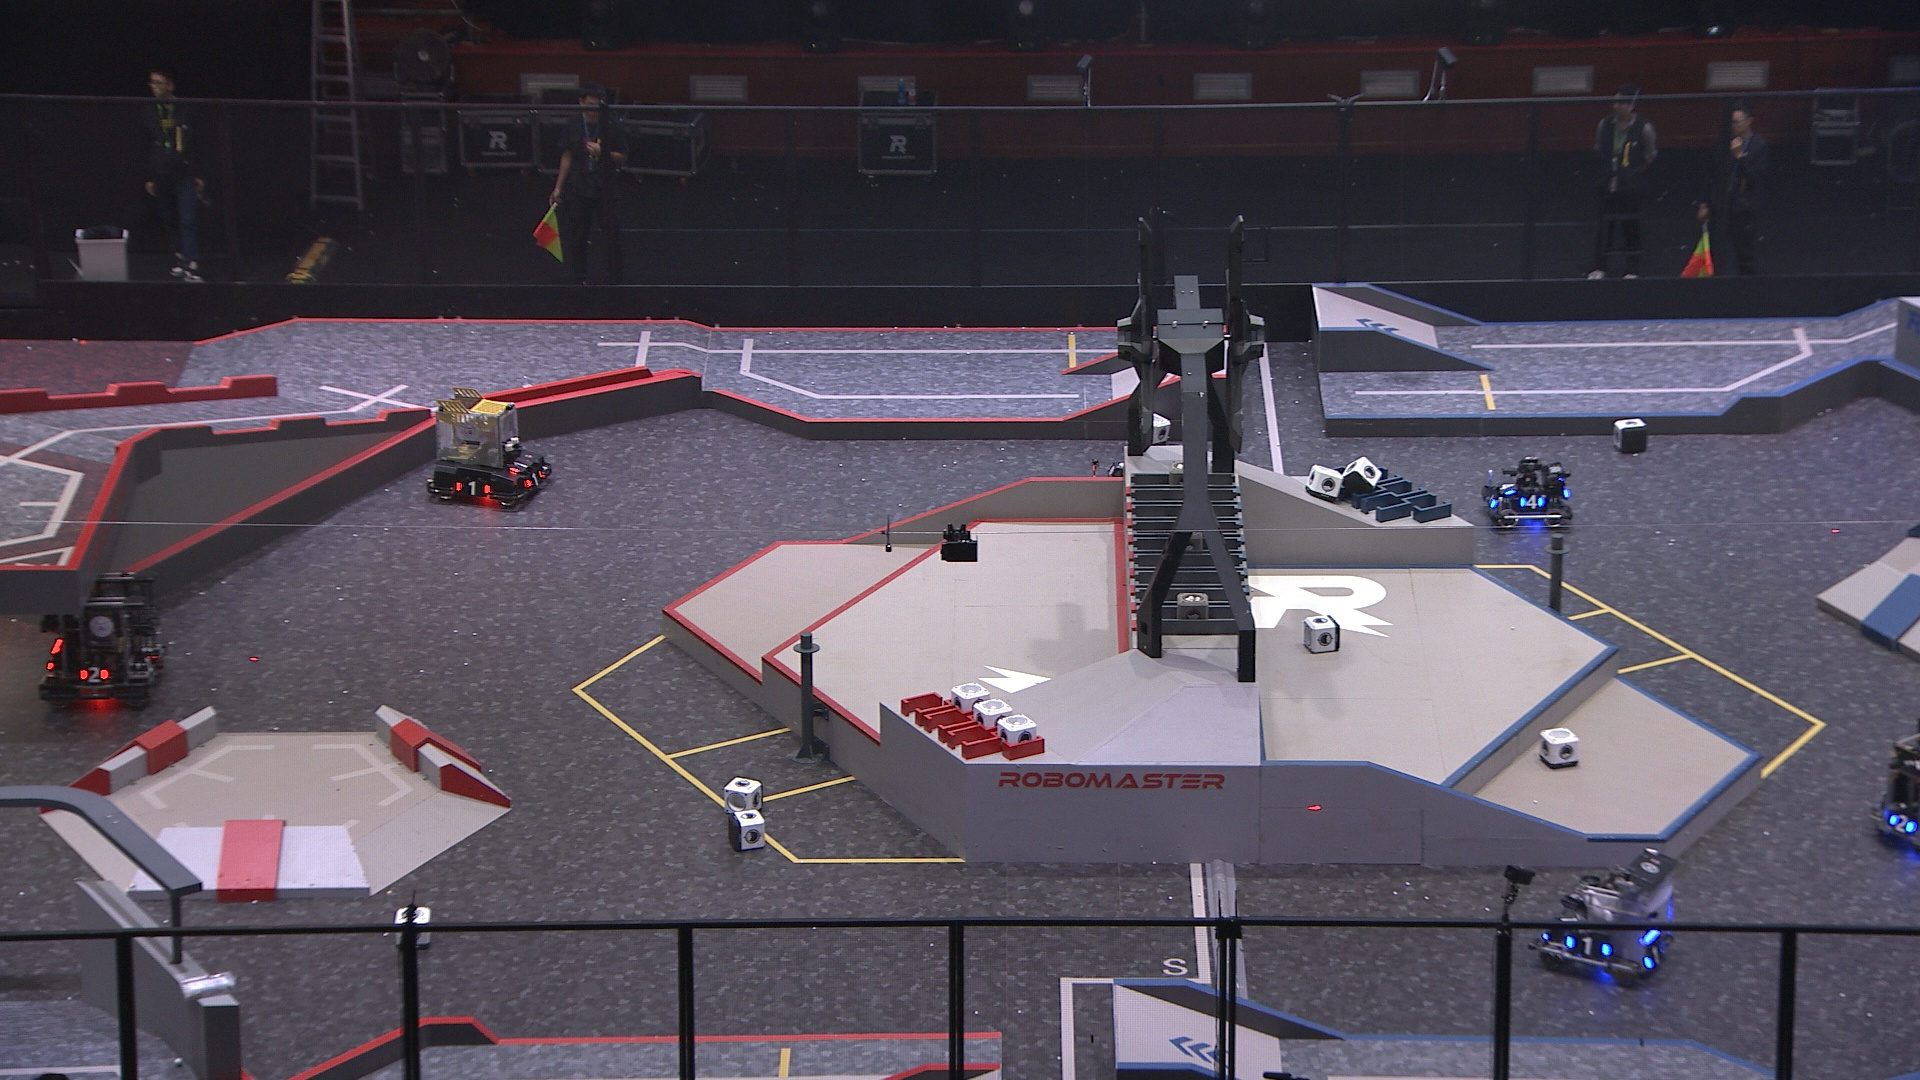armor: (1563, 931, 1611, 963), (1555, 906, 1580, 942), (1644, 940, 1669, 968), (455, 477, 491, 496), (1890, 812, 1916, 836), (76, 665, 111, 680), (524, 469, 546, 489), (1519, 495, 1545, 510), (512, 455, 534, 473), (1501, 479, 1519, 498), (1485, 493, 1499, 516)
car: (1536, 847, 1684, 982), (32, 568, 171, 709), (425, 392, 556, 512), (1481, 455, 1577, 534), (1873, 721, 1920, 851)
